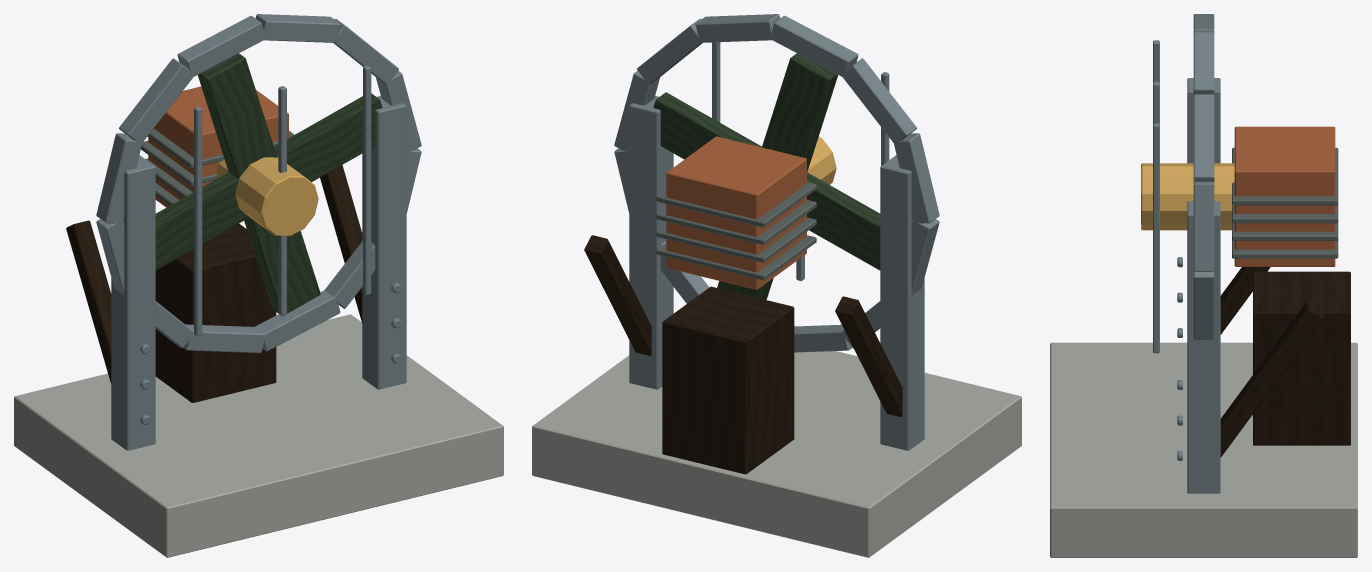
File: SmokeFan.glb
3 views of the same model, side by side, from view 1: azimuth 30°, elevation 25°; view 2: azimuth 150°, elevation 25°; view 3: azimuth 270°, elevation 25° (orthographic).
Visible parts, largest first — view 1: Fan base, Drive pedestal, Fan support, Fan support.001, Rotor blade.001, Axle, Rotor blade.002, Rotor blade, Motor housing, Rotor blade.003, Frame diagonal, Cage rim.004 (+16 smaller); view 2: Fan base, Drive pedestal, Motor housing, Fan support, Fan support.001, Rotor blade.001, Rotor blade.002, Frame diagonal, Frame diagonal.001, Rotor blade, Cage rim.004, Cage rim.003 (+13 smaller); view 3: Fan base, Drive pedestal, Motor housing, Fan support.001, Axle, Frame diagonal.001, Cage rim, Cage rim.001, Front guard.002, Cage rim.011, Cage rim.002, Motor cooling fin.003 (+6 smaller).
Boxes of the visible parts, <box> form: Fan base: <box>14,314,503,557</box>; Drive pedestal: <box>155,223,276,402</box>; Fan support: <box>111,155,155,450</box>; Fan support.001: <box>362,96,406,389</box>; Rotor blade.001: <box>198,53,276,179</box>; Axle: <box>216,157,318,236</box>; Rotor blade.002: <box>155,172,249,270</box>; Rotor blade: <box>274,93,382,182</box>; Motor housing: <box>148,86,288,207</box>; Rotor blade.003: <box>244,217,320,316</box>; Frame diagonal: <box>66,220,111,383</box>; Cage rim.004: <box>119,58,193,142</box>; Fan base: <box>532,351,1021,557</box>; Drive pedestal: <box>662,286,794,474</box>; Motor housing: <box>666,136,806,289</box>; Fan support: <box>880,155,924,450</box>; Fan support.001: <box>629,96,673,389</box>; Rotor blade.001: <box>762,53,837,171</box>; Rotor blade.002: <box>807,172,880,270</box>; Frame diagonal: <box>835,296,902,417</box>; Frame diagonal.001: <box>584,235,651,355</box>; Rotor blade: <box>653,92,761,159</box>; Cage rim.004: <box>842,58,916,143</box>; Cage rim.003: <box>771,15,858,76</box>; Fan base: <box>1050,342,1357,557</box>; Drive pedestal: <box>1253,271,1350,445</box>; Motor housing: <box>1234,126,1335,266</box>; Fan support.001: <box>1187,201,1220,493</box>; Axle: <box>1141,163,1234,230</box>; Frame diagonal.001: <box>1220,301,1323,457</box>; Cage rim: <box>1193,181,1214,271</box>; Cage rim.001: <box>1193,94,1214,181</box>; Front guard.002: <box>1153,123,1159,353</box>; Cage rim.011: <box>1193,271,1214,339</box>; Cage rim.002: <box>1193,32,1214,94</box>; Motor cooling fin.003: <box>1232,147,1338,205</box>.
Size of the model in its own units: 1.4 by 1.76 by 1.1.
Materials: 7 (2 with a texture image).
